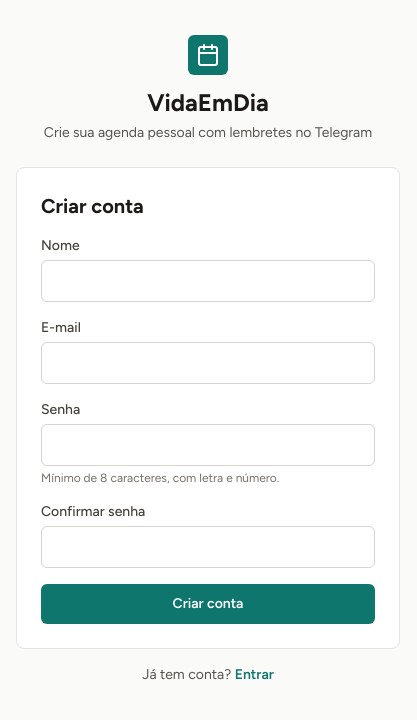
Criar Conta › confirmação diferente mostra "As senhas não são iguais."
In the field labelled "Nome": x=208, y=281 x1=41 y1=260 x2=375 y2=302, type "Novo Usuário"
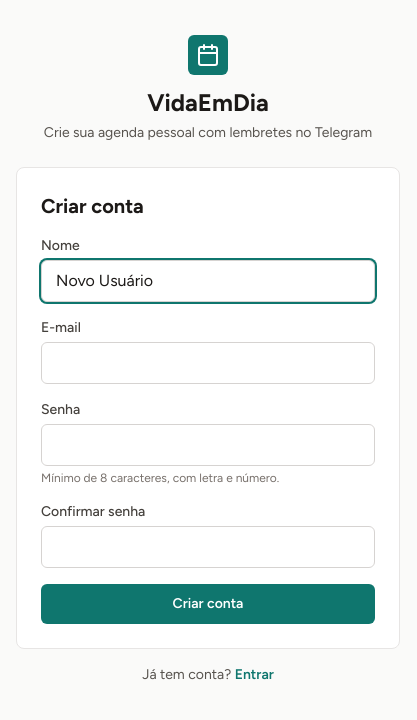
In the field labelled "E-mail": x=208, y=363 x1=41 y1=342 x2=375 y2=384, type "novo@vidaemdia.com.br"
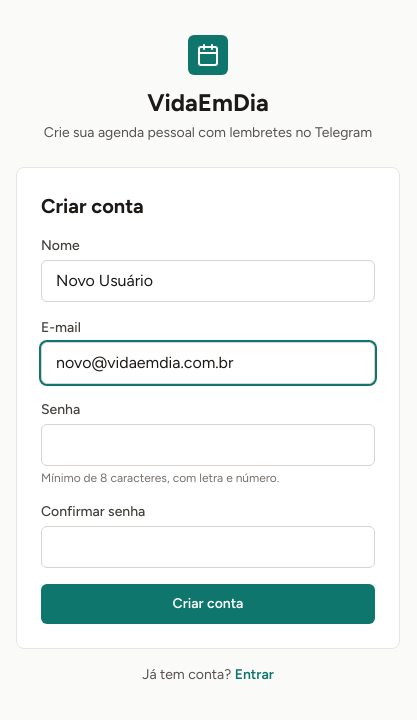
In the password field labelled "Senha": x=208, y=445 x1=41 y1=424 x2=375 y2=466, type "senha1234"
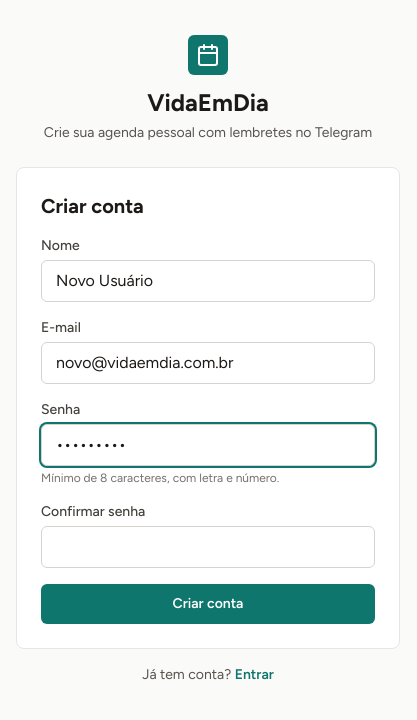
In the password field labelled "Confirmar senha": x=208, y=547 x1=41 y1=526 x2=375 y2=568, type "senhaDiferente"
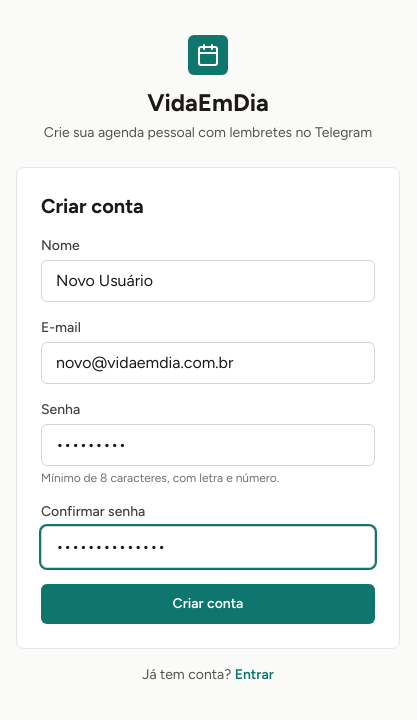
Click the button "Criar conta": x=208, y=604 x1=41 y1=584 x2=375 y2=624
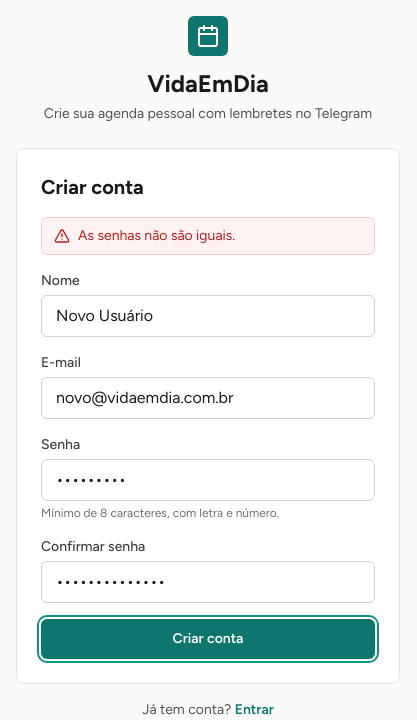
Now the text "As senhas não são iguais." is shown, box x1=78 y1=226 x2=235 y2=246
